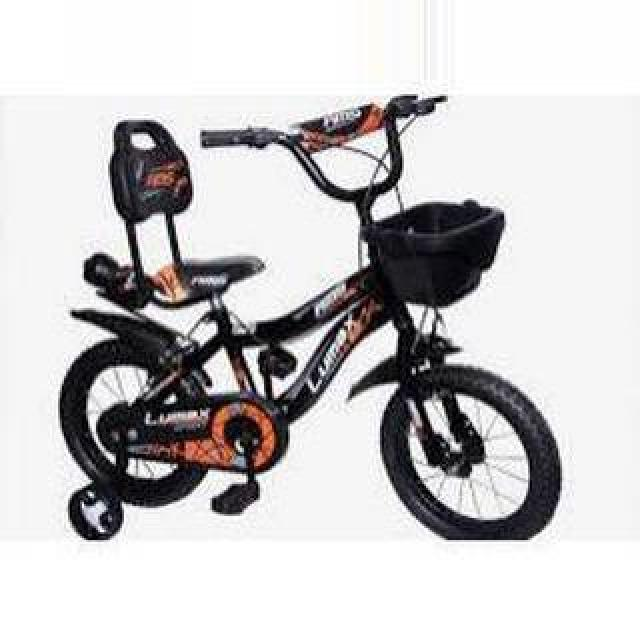Person: (58, 94, 564, 546)
